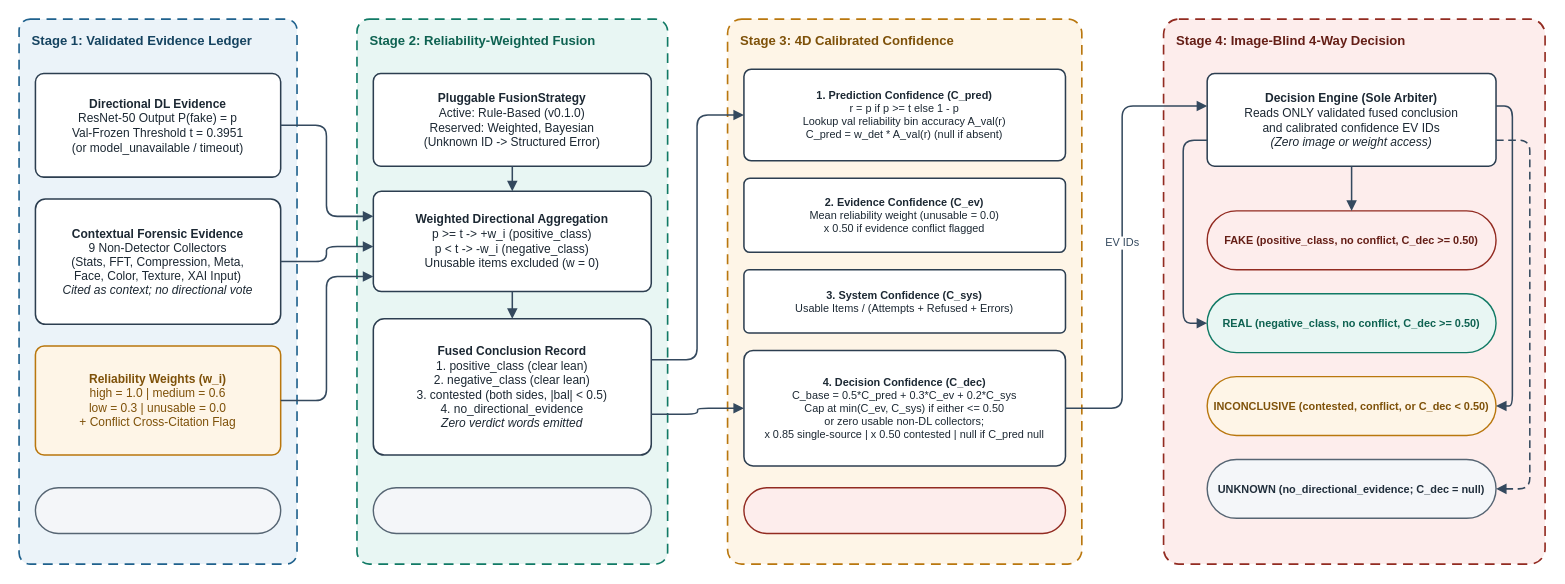
Image size: 1565x584. Some labels were removed from this diagram. Each missing label, with the centre of its shape:
"Invariant: Source rows never mutated" belongs at point 157,510.
"Logged & Graded Before Downstream Use" belongs at point 511,510.
"Safety Override: p=0.99 -> C_dec=0.3333" belongs at point 904,510.
